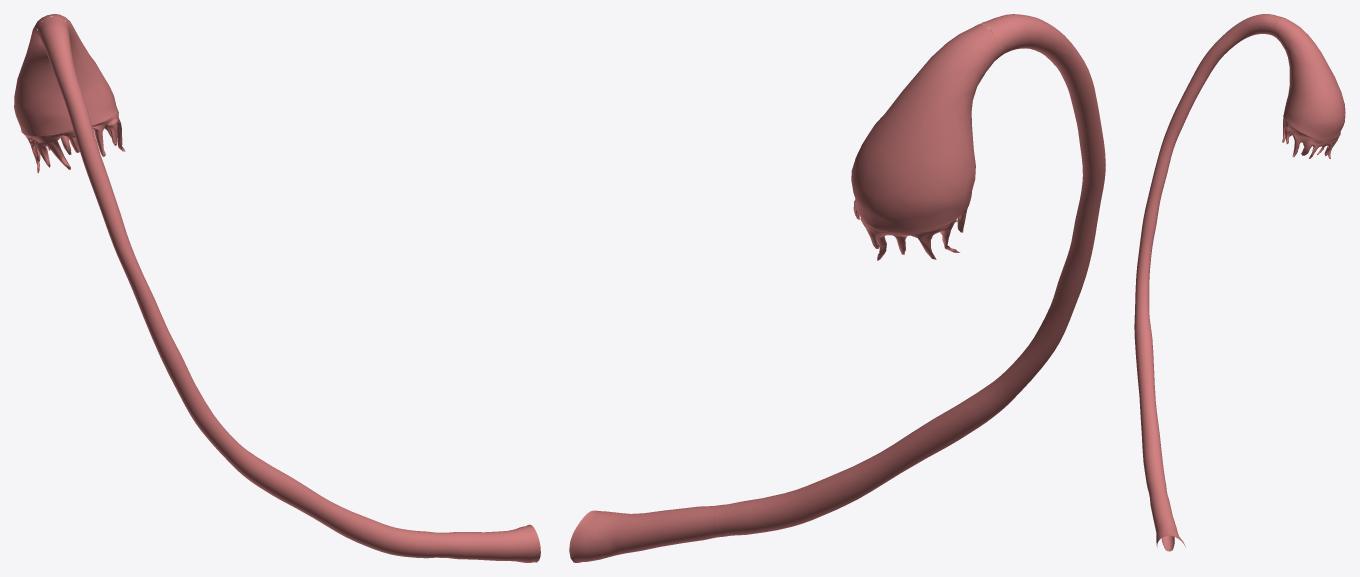
The model's file is vh_f_fallopian_tube_r-40.glb.
3 renders of one model, left to right at view 1: azimuth 30°, elevation 25°; view 2: azimuth 150°, elevation 25°; view 3: azimuth 270°, elevation 25°, orthographic. The views are drawn at different scales.
Visible parts, largest first — view 1: VH_F_ampulla_of_uterine_tube_R, VH_F_uterine_tube_infundibulum_R, VH_F_isthmus_of_fallopian_tube_R, VH_F_fibria_of_uterine_tube_R; view 2: VH_F_ampulla_of_uterine_tube_R, VH_F_uterine_tube_infundibulum_R, VH_F_isthmus_of_fallopian_tube_R, VH_F_fibria_of_uterine_tube_R; view 3: VH_F_ampulla_of_uterine_tube_R, VH_F_uterine_tube_infundibulum_R, VH_F_isthmus_of_fallopian_tube_R, VH_F_fibria_of_uterine_tube_R.
Part boxes in pixels (x1,y1,x2,y2): VH_F_ampulla_of_uterine_tube_R: (37,16,450,558); VH_F_uterine_tube_infundibulum_R: (14,14,118,136); VH_F_isthmus_of_fallopian_tube_R: (442,524,540,562); VH_F_fibria_of_uterine_tube_R: (23,112,125,173); VH_F_ampulla_of_uterine_tube_R: (715,14,1105,536); VH_F_uterine_tube_infundibulum_R: (851,23,1001,233); VH_F_isthmus_of_fallopian_tube_R: (569,505,722,562); VH_F_fibria_of_uterine_tube_R: (853,199,967,260); VH_F_ampulla_of_uterine_tube_R: (1134,14,1283,493); VH_F_uterine_tube_infundibulum_R: (1273,18,1345,139); VH_F_isthmus_of_fallopian_tube_R: (1149,488,1185,551); VH_F_fibria_of_uterine_tube_R: (1282,117,1339,158).
Bounding box in the file's own units: 0.0344 × 0.0446 × 0.0209.
